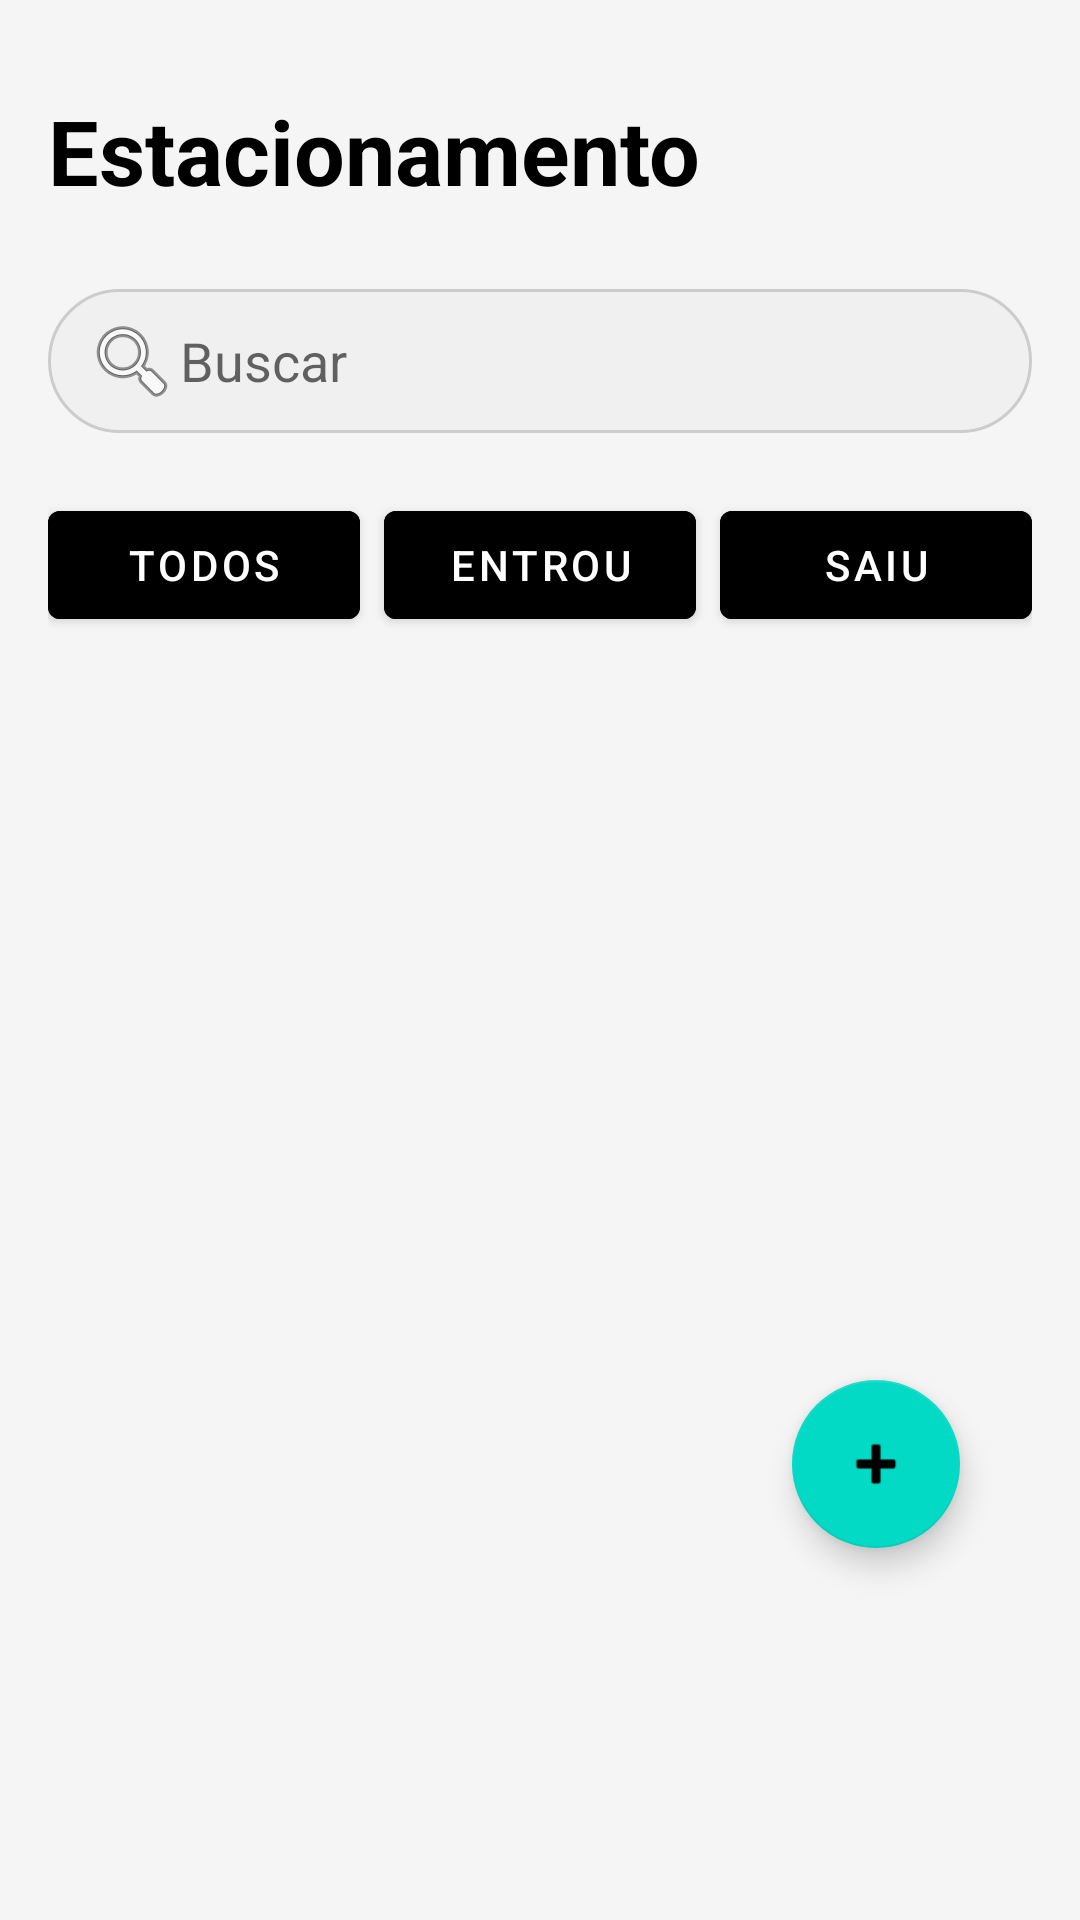

Named icons in this screenshot (1080x1920) and their bounding boxes, region(x1, y1, x2, y2):
Adicionar item: region(792, 1380, 960, 1548)
